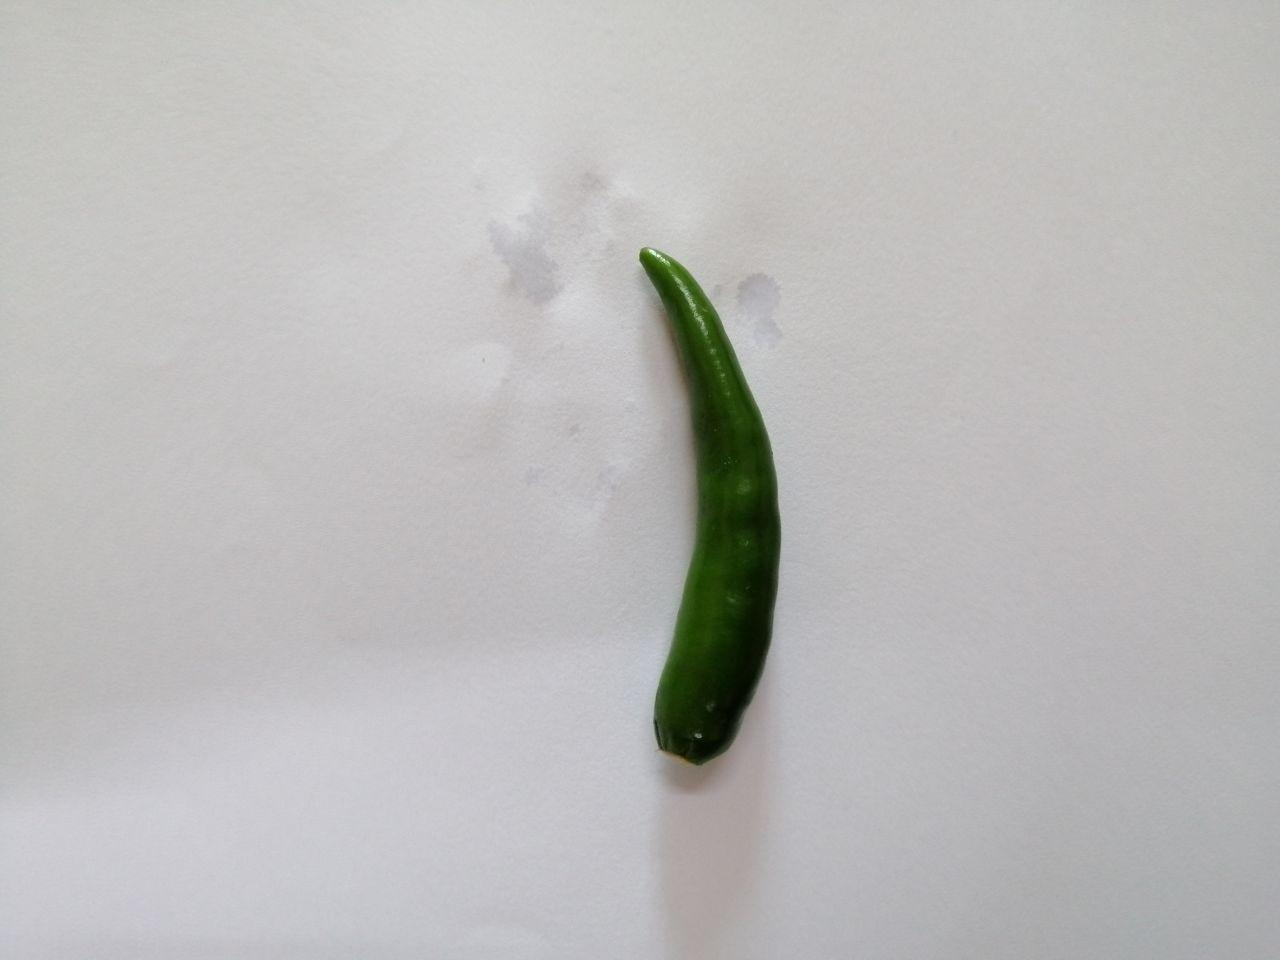lada hijau: (577, 217, 803, 786)
